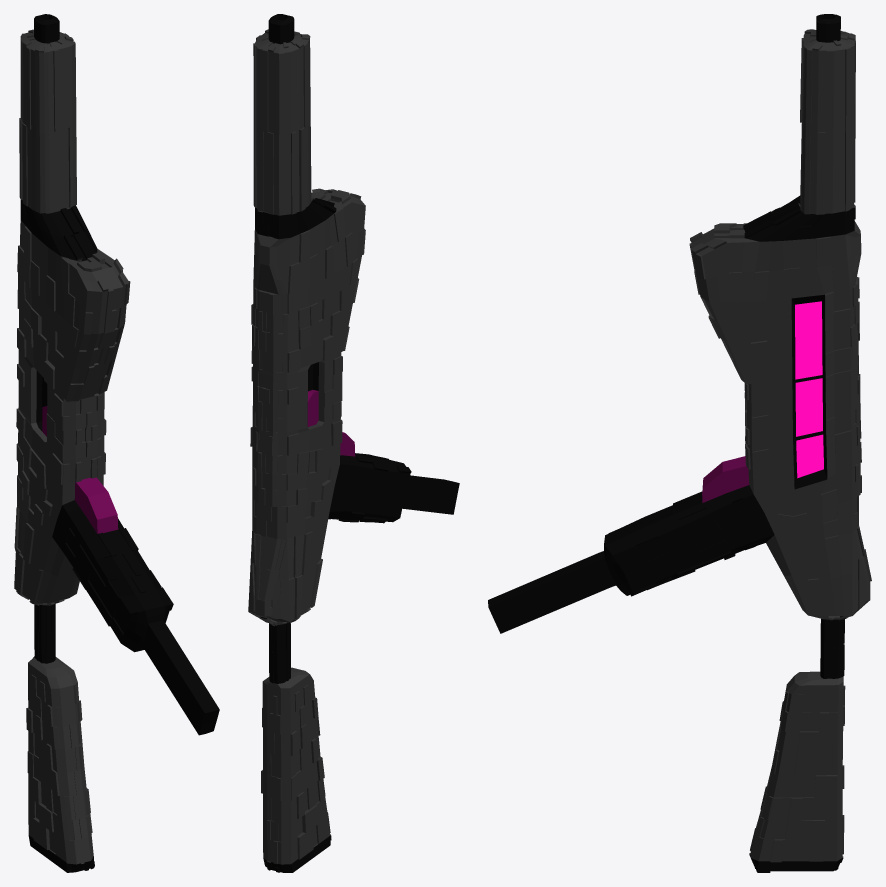
The model's file is smg.fbx.
The picture shows the model from 3 angles, left to right: view 1: azimuth 30°, elevation 25°; view 2: azimuth 150°, elevation 25°; view 3: azimuth 270°, elevation 25°; orthographic projection. The views are drawn at different scales.
Parts seen in each view (by area): view 1: SMG; view 2: SMG; view 3: SMG.
Boxes of the visible parts, <box> form: SMG: <box>14,14,219,872</box>; SMG: <box>248,14,459,872</box>; SMG: <box>488,14,871,872</box>.
Bounding box in the file's own units: 3.49 × 61.65 × 25.23.
